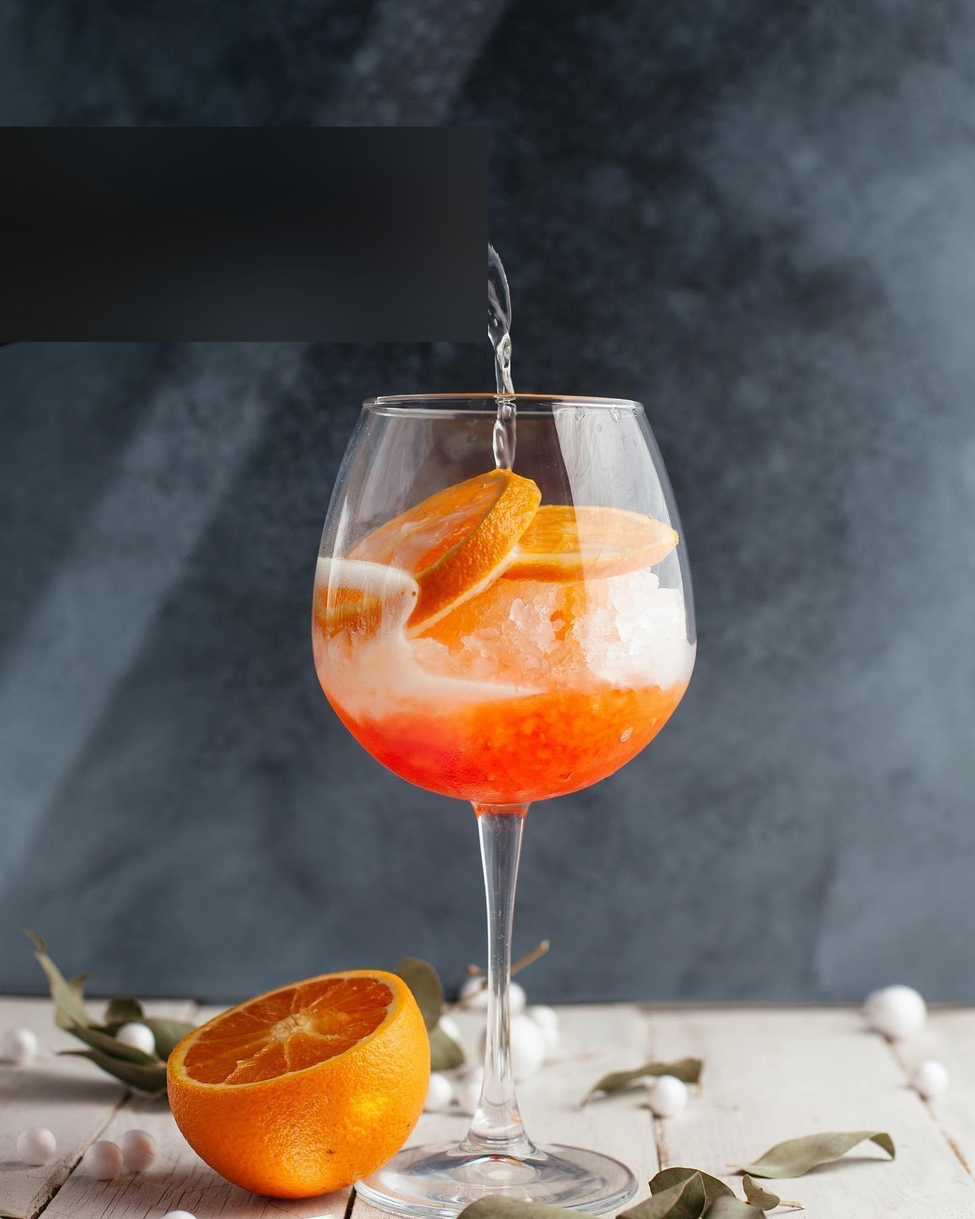glass-wine: (308, 395, 708, 1219)
